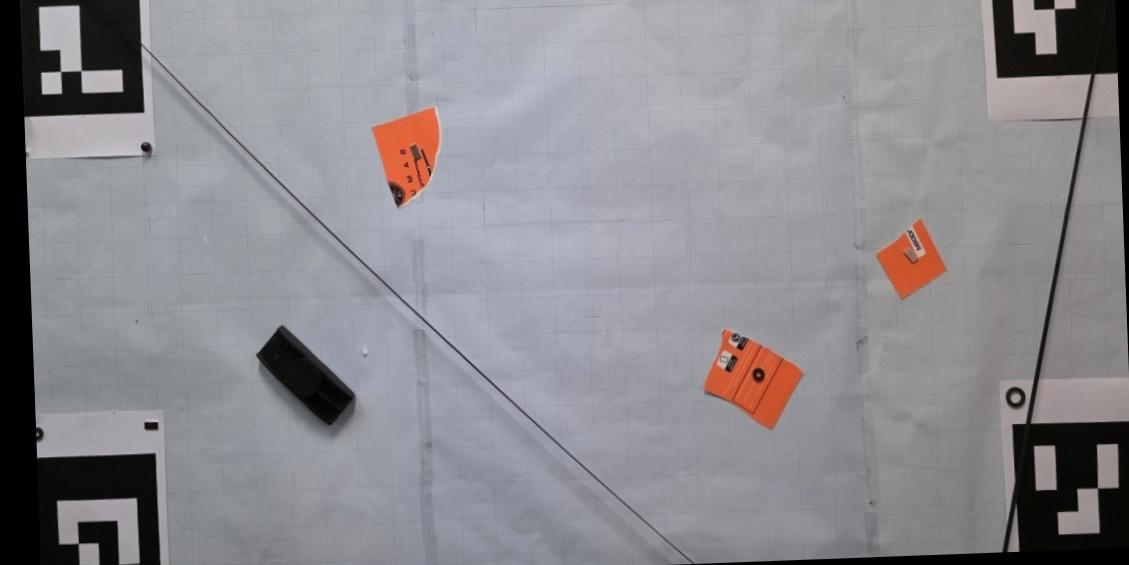obstacle: (255, 323, 355, 426), (704, 330, 804, 429), (370, 106, 442, 210), (876, 217, 947, 300)
